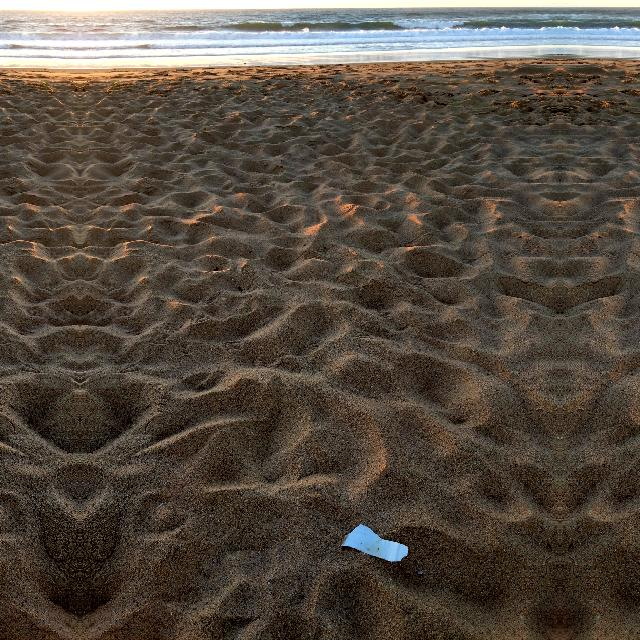Paper: (338, 520, 412, 566)
